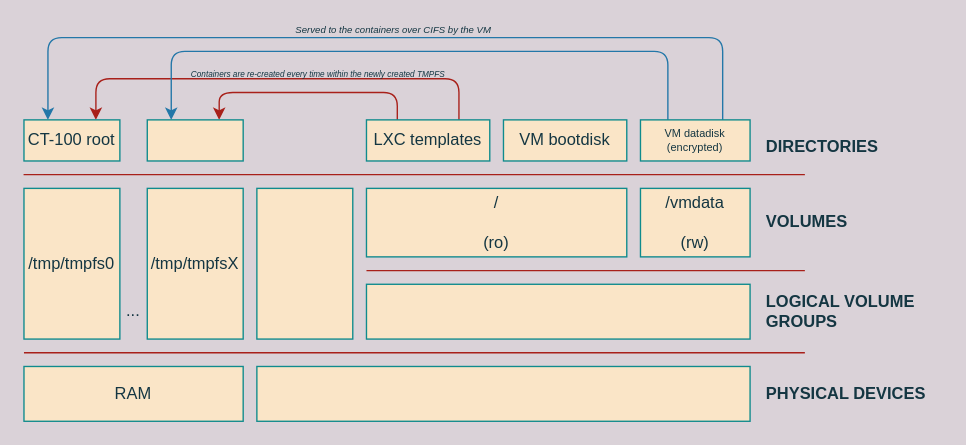
Image size: 966x445. Some labels were removed from this diagram. Here are the shapes that lost their labels. From the top down, the box of each, then its label:
(146, 119, 243, 161): CT-XXX root
(256, 187, 353, 339): /boot (ro)
(365, 283, 750, 339): LUKS / LVM (encrypted)
(256, 365, 750, 421): /dev/sda
